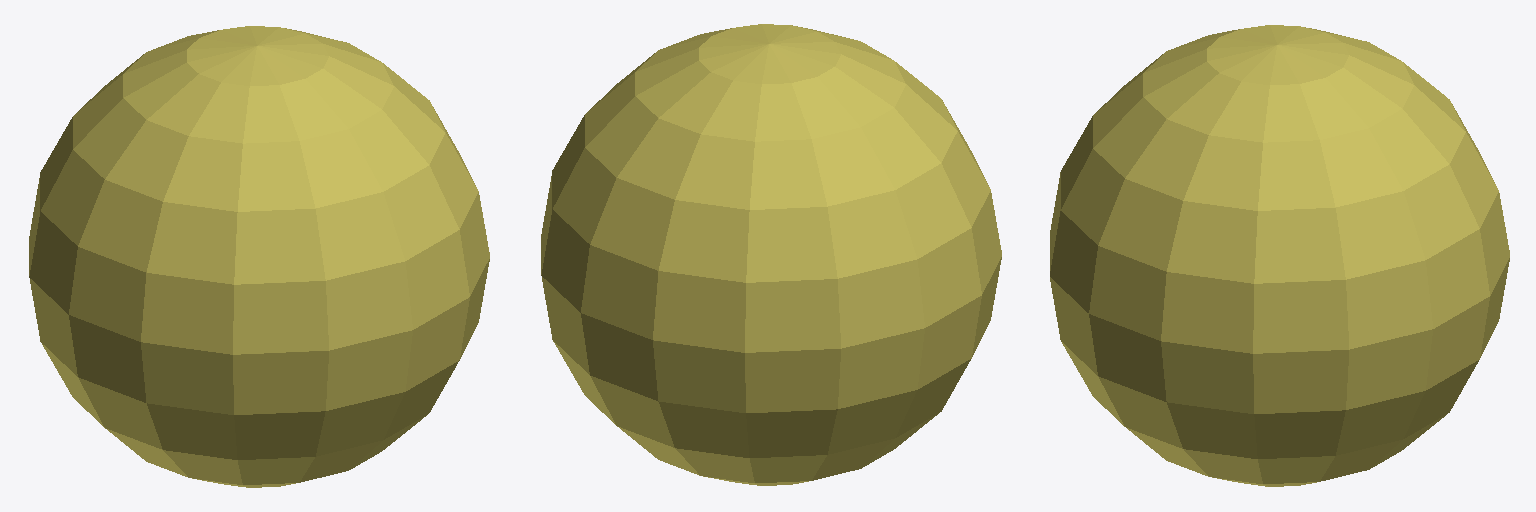
File: projectile_spreadshot.obj
The picture shows the model from 3 angles: view 1: azimuth 30°, elevation 25°; view 2: azimuth 150°, elevation 25°; view 3: azimuth 270°, elevation 25°; orthographic projection.
Parts seen in each view (by area): view 1: Sphere; view 2: Sphere; view 3: Sphere.
Part boxes in pixels (left/top/right/bottom): Sphere: left=29, top=26, right=489, bottom=487; Sphere: left=541, top=24, right=1001, bottom=485; Sphere: left=1050, top=25, right=1509, bottom=486.
Bounding box in the file's own units: 0.7459 × 0.75 × 0.7418.